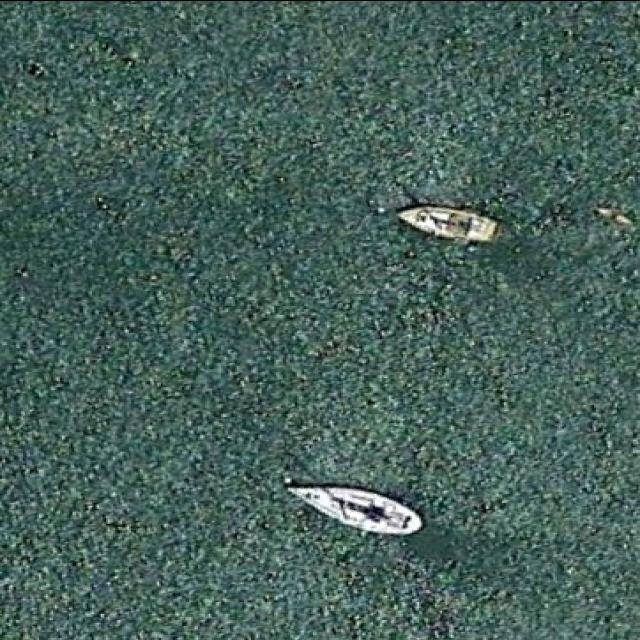ship: (281, 478, 424, 535), (392, 197, 498, 242)
